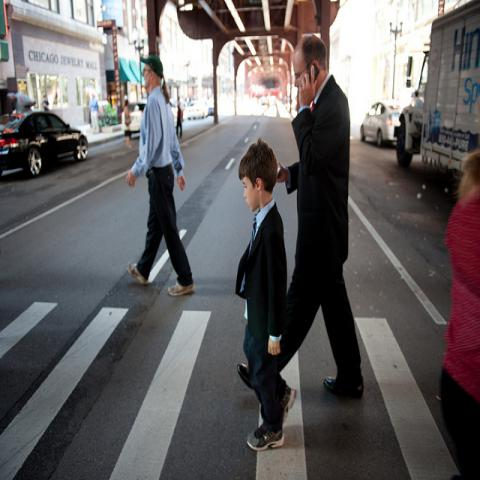car: (2, 107, 88, 182), (360, 100, 404, 147), (120, 100, 148, 132), (183, 100, 209, 118)
truck: (394, 1, 479, 177)
